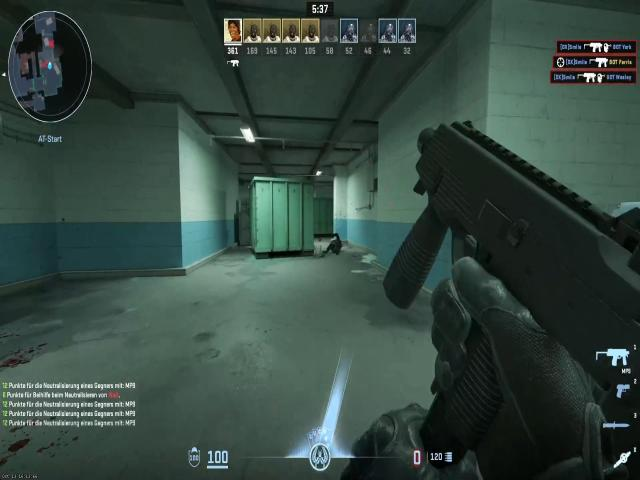Dead: (323, 224, 345, 258)
